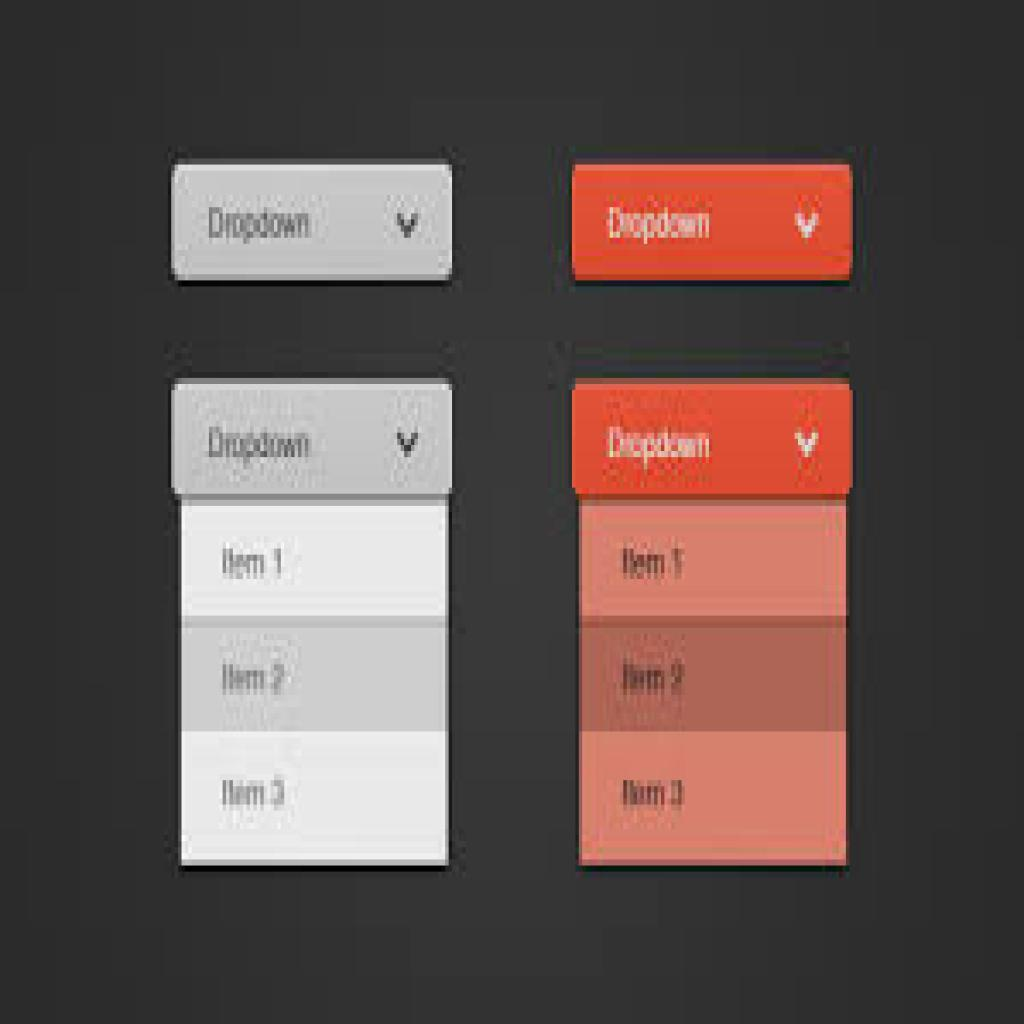dropdown: (571, 165, 855, 285), (172, 379, 456, 498), (171, 165, 455, 283), (573, 384, 854, 501)
